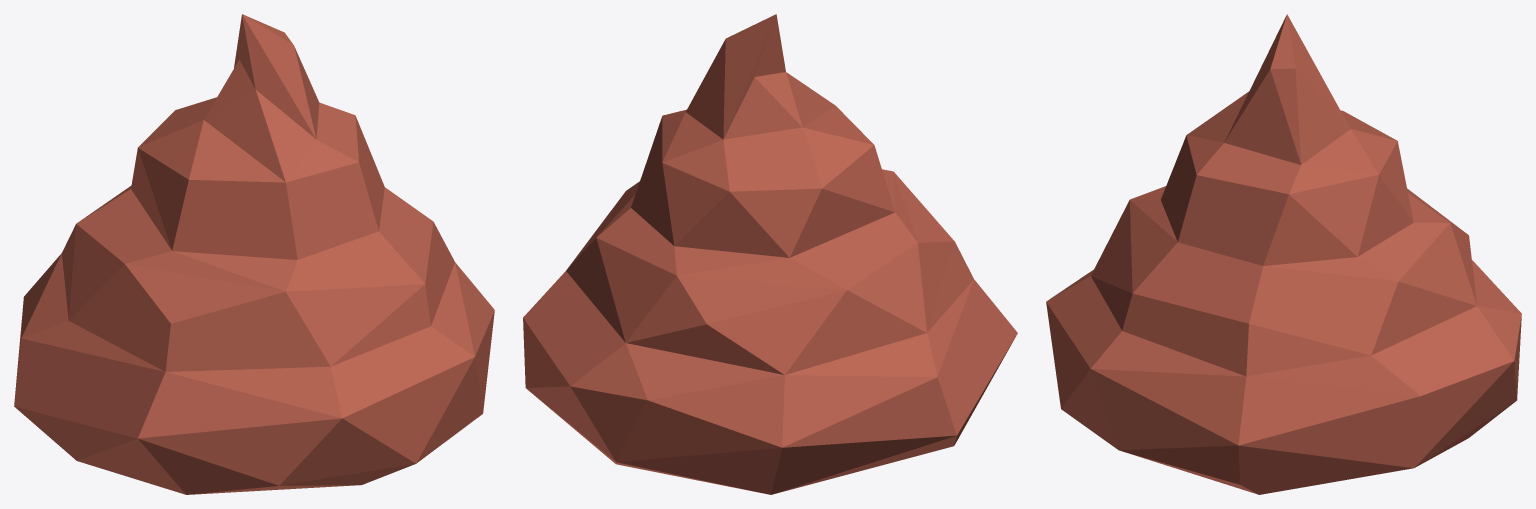
The model's file is poop1a.fbx.
3 views of the same model, side by side, from view 1: azimuth 30°, elevation 25°; view 2: azimuth 150°, elevation 25°; view 3: azimuth 270°, elevation 25° (orthographic). The views are drawn at different scales.
Parts seen in each view (by area): view 1: Cylinder; view 2: Cylinder; view 3: Cylinder.
Part boxes in pixels (x1,y1,x2,y2): Cylinder: (14, 14, 494, 494); Cylinder: (523, 14, 1017, 494); Cylinder: (1046, 14, 1521, 494).
Bounding box in the file's own units: 497 × 443 × 487.
